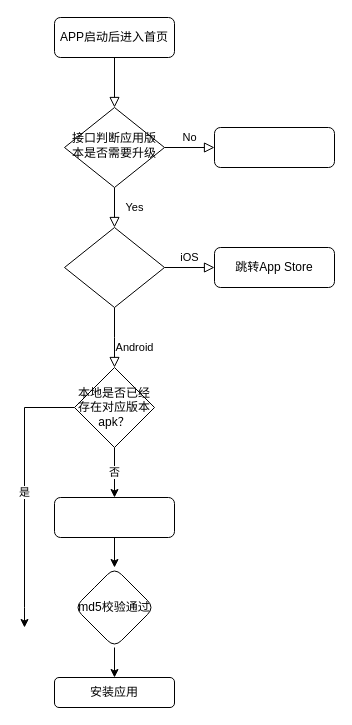
The diagram is 352 pixels wide and 725 high, and some of its shapes have lost their labels. The shapes that lost their labels are listed below. From the top down, each one's box as (x1, y1, x2, y2) in pixels, then its label:
(214, 126, 334, 168): nothing
(64, 226, 164, 308): Android or iOS？
(54, 496, 174, 538): 下载apk（SD卡还是应用内目录？）
